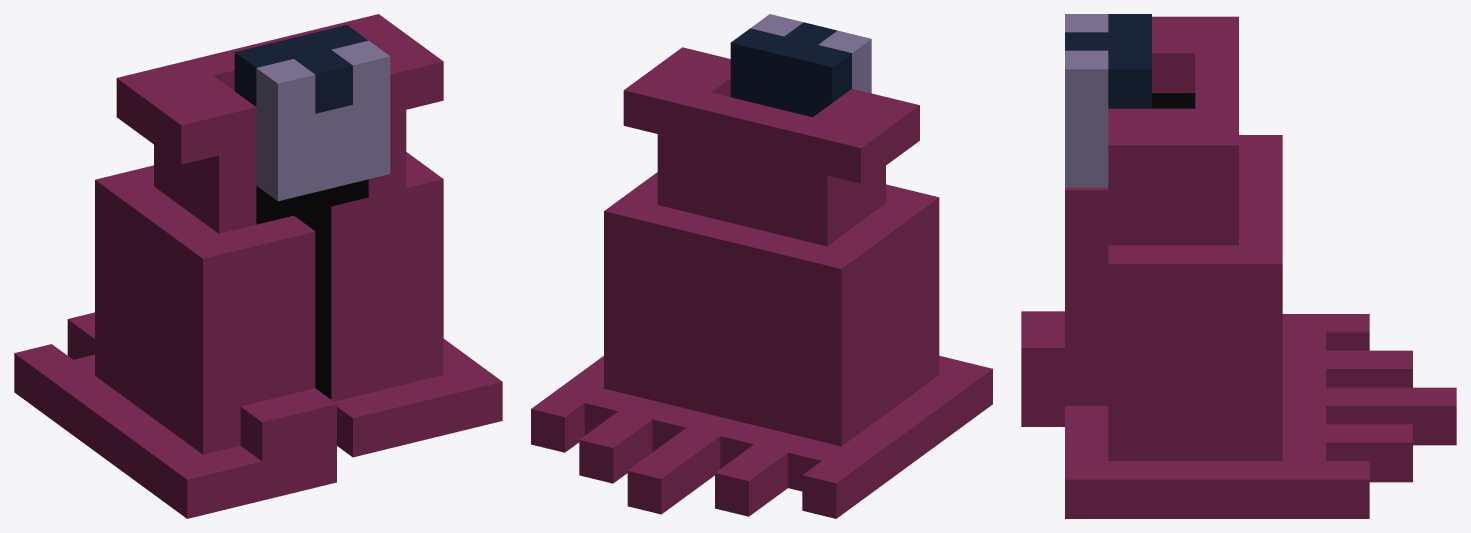
The model's file is vampire_walk_3.obj.
3 renders of one model, left to right at view 1: azimuth 30°, elevation 25°; view 2: azimuth 150°, elevation 25°; view 3: azimuth 270°, elevation 25°, orthographic. The views are drawn at different scales.
Size of the model in its own units: 0.9 by 1 by 1.
Materials: 1 (1 with a texture image).
